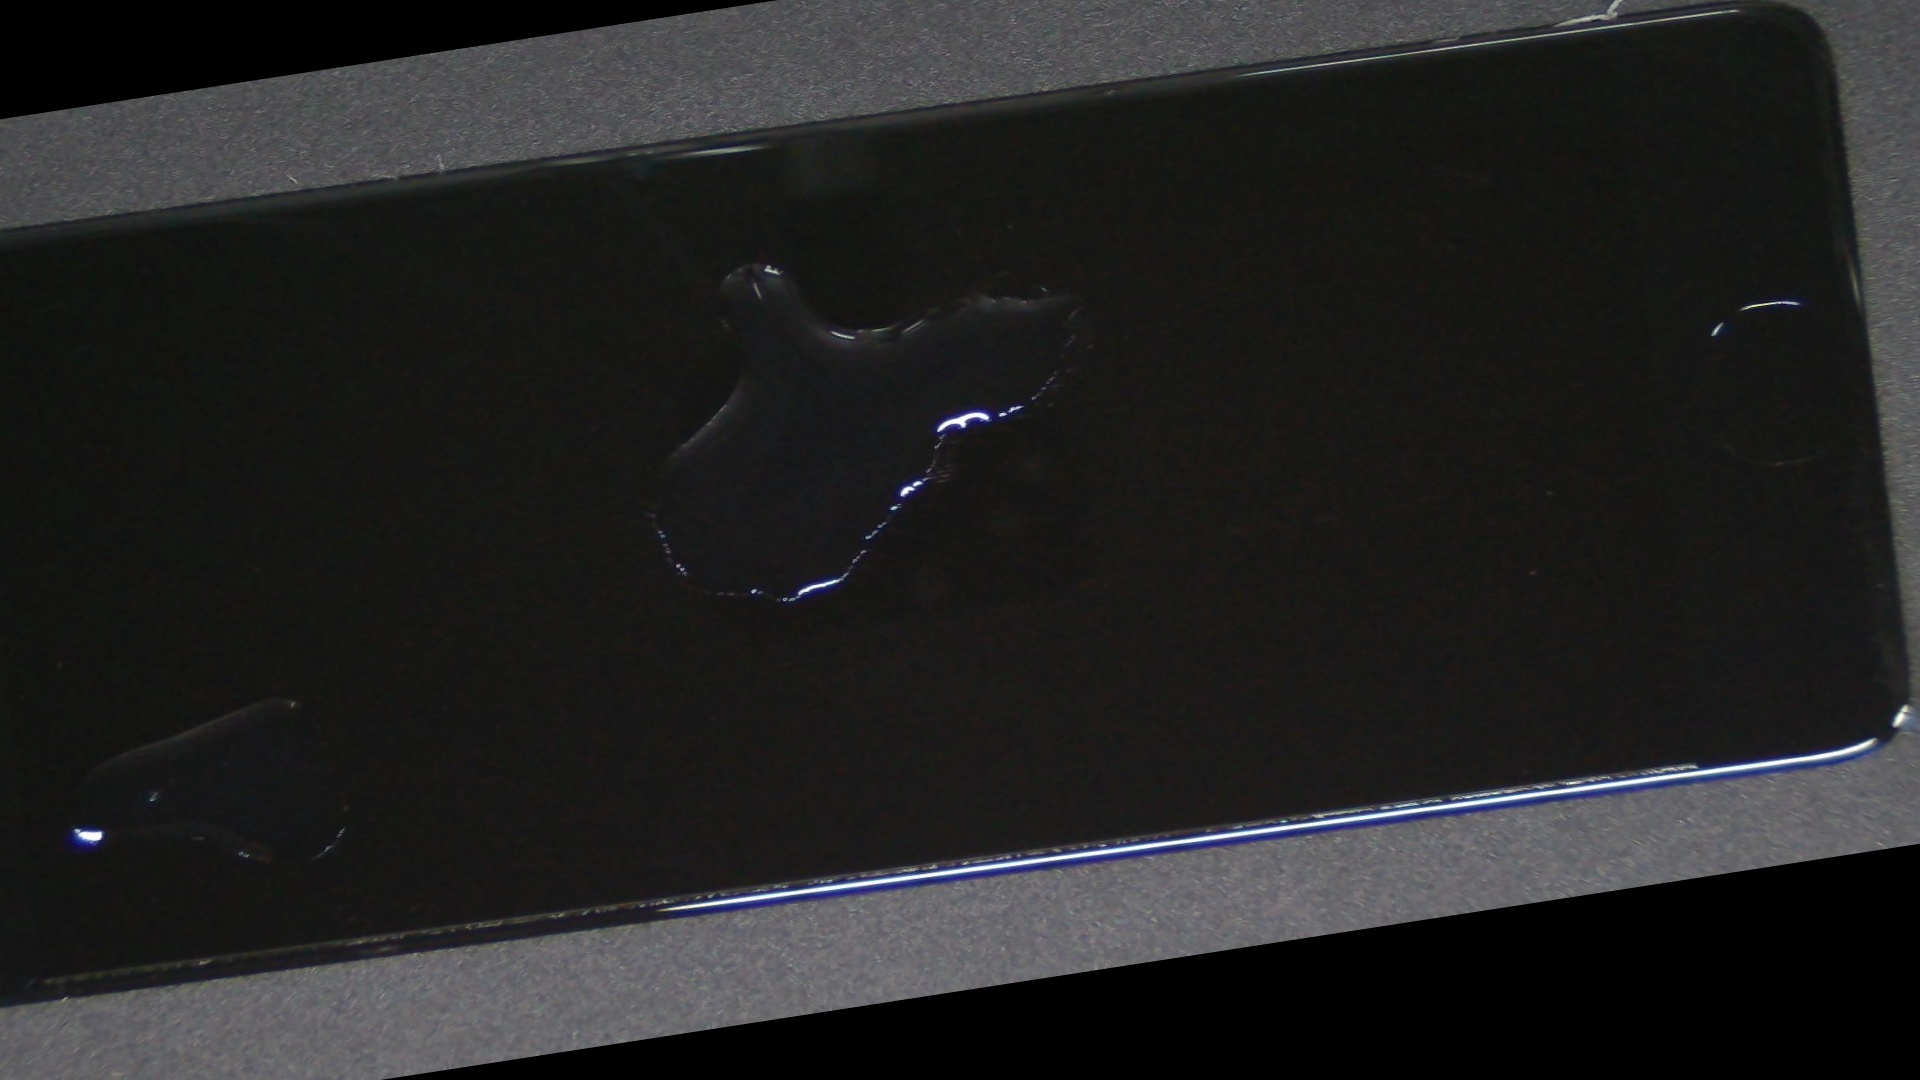oil: (206, 54, 1302, 469), (0, 355, 578, 1040)
